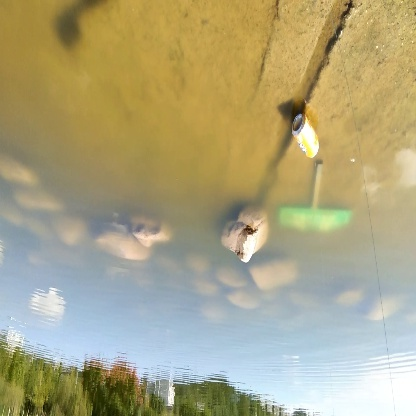bottle: (281, 109, 322, 157)
